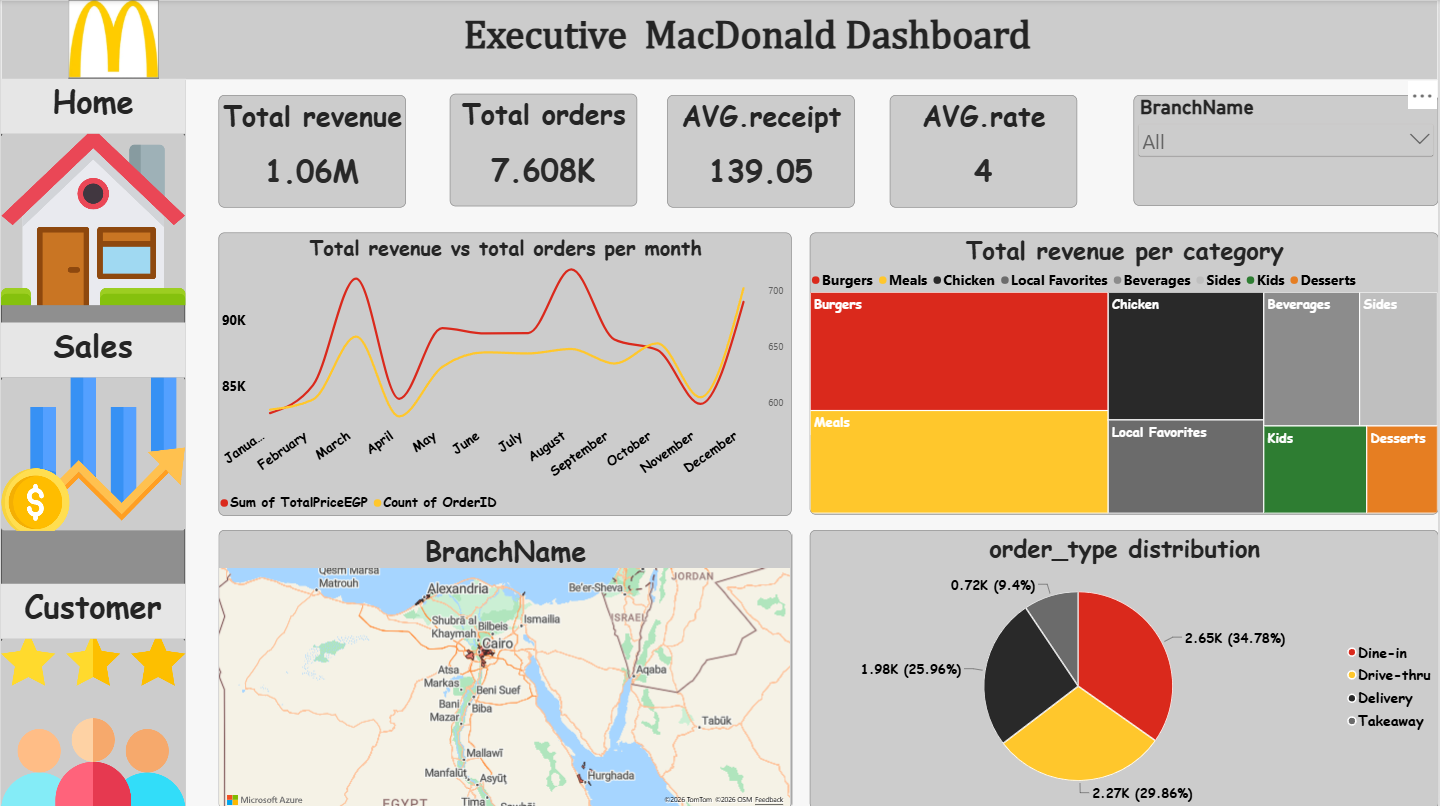

The page's visual inventory and layout, read from the dashboard file:
{"tool":"powerbi","page":{"name":"Executive","canvas":[1920,1080],"ordinal":0},"visuals":[{"type":"shape","box":[0,106,246,974],"z":0},{"type":"pieChart","title":"order_type distribution ","fields":{"Category":["Orders.OrderType"],"Y":["CountNonNull(Orders.OrderID)"]},"box":[1080.4,707.6,839.7,372.8],"z":1000},{"type":"cardVisual","title":"Total revenue","fields":{"Data":["Sum(Orders.TotalPriceEGP)"]},"box":[291.4,126.7,250,150],"z":2000},{"type":"cardVisual","title":"AVG.rate","fields":{"Data":["Median(Reviews.Rating)"]},"box":[1187.1,126.7,250,150],"z":3000},{"type":"cardVisual","title":"AVG.receipt ","fields":{"Data":["Avg(Orders.TotalPriceEGP)"]},"box":[890.4,126.7,250,150],"z":4000},{"type":"cardVisual","title":"Total orders","fields":{"Data":["Count(Orders.OrderID)"]},"box":[599,124.9,250,150],"z":5000},{"type":"lineChart","title":"Total revenue vs total orders per month","fields":{"Category":["Orders.OrderDate.Variation.Date Hierarchy.Month"],"Y":["Sum(Orders.TotalPriceEGP)"],"Y2":["CountNonNull(Orders.OrderID)"]},"box":[291.4,311.3,765.5,378.2],"z":6000},{"type":"treemap","title":"Total revenue per category ","fields":{"Group":["Menu.Category Hierarchy.Category","Menu.Category Hierarchy.ItemName"],"Values":["Sum(Orders.TotalPriceEGP)"]},"box":[1080.4,311.3,839.7,376.4],"z":7000},{"type":"slicer","fields":{"Values":["Branches.BranchName"]},"box":[1512.9,126.7,407.2,148.4],"z":8000},{"type":"azureMap","fields":{"Category":["Branches.BranchName"]},"box":[291.4,707.6,765.5,372.8],"z":9000},{"type":"shape","box":[0,0,1920.1,106.8],"z":10000},{"type":"textbox","box":[206.3,18.1,1579.8,74.2],"z":11000},{"type":"actionButton","title":"Home","box":[0,106,246,302],"z":12000},{"type":"actionButton","title":"Customer","box":[0,780,246,300],"z":13000},{"type":"actionButton","title":"Sales","box":[0,430,246,278],"z":14000},{"type":"image","box":[0,0,300.6,105.2],"z":15000}]}

Visuals, with their boxes in screenshot pixels (x1, y1, x2, y2), scaled from the page's 1920x1080 canvas onto the 1440x806 screenshot:
shape: locate(0, 79, 184, 805)
"order_type distribution " pieChart: locate(810, 528, 1439, 805)
"Total revenue" cardVisual: locate(219, 95, 406, 207)
"AVG.rate" cardVisual: locate(890, 95, 1078, 207)
"AVG.receipt " cardVisual: locate(668, 95, 855, 207)
"Total orders" cardVisual: locate(449, 93, 637, 205)
"Total revenue vs total orders per month" lineChart: locate(219, 232, 793, 515)
"Total revenue per category " treemap: locate(810, 232, 1439, 513)
slicer - Branches.BranchName: locate(1135, 95, 1439, 205)
azureMap - Branches.BranchName: locate(219, 528, 793, 805)
shape: locate(0, 0, 1439, 80)
textbox: locate(155, 14, 1340, 69)
"Home" actionButton: locate(0, 79, 184, 304)
"Customer" actionButton: locate(0, 582, 184, 805)
"Sales" actionButton: locate(0, 321, 184, 528)
image: locate(0, 0, 225, 79)
